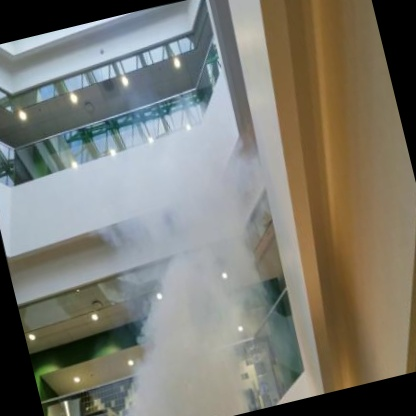smoke: (83, 124, 266, 363)
